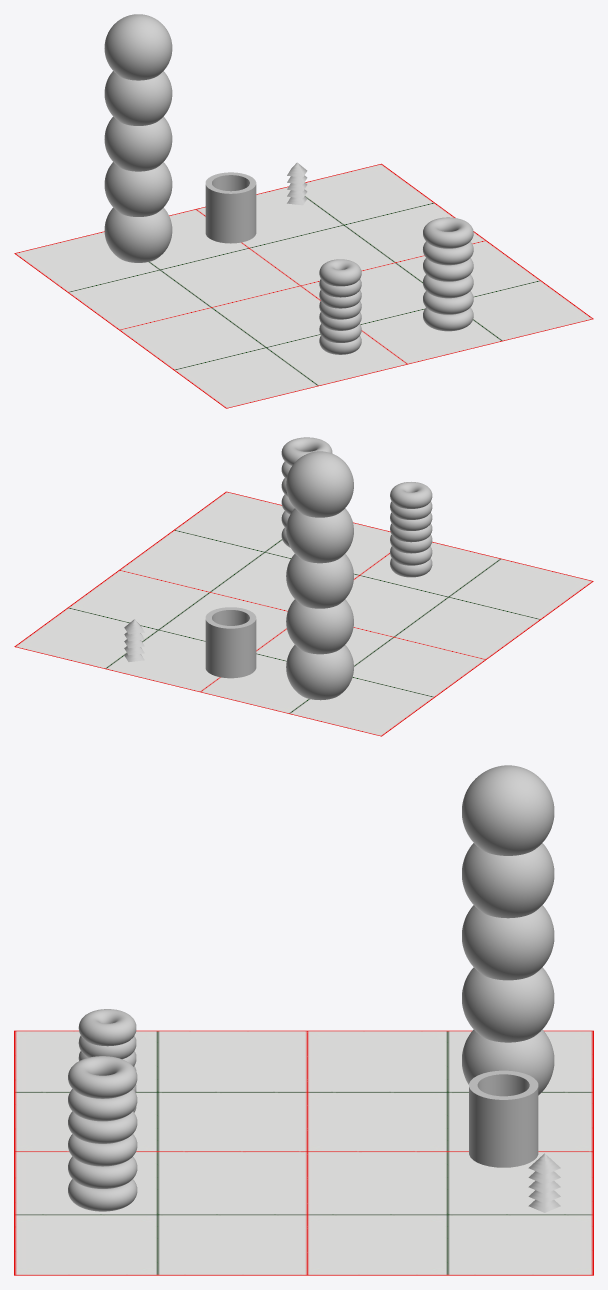
Rendered from level1.fbx.
3 views of the same model, one above another, from view 1: azimuth 30°, elevation 25°; view 2: azimuth 150°, elevation 25°; view 3: azimuth 270°, elevation 25° (orthographic). The views are drawn at different scales.
Parts seen in each view (by area): view 1: gnd1, pSphere5, pSphere1, pSphere3, pSphere4, pSphere2, pPipe5, Torus13, Torus7, pPipe4, pPipe1, Torus8 (+8 smaller); view 2: gnd1, pSphere5, pSphere2, pSphere4, pSphere1, pSphere3, pPipe5, pPipe4, Torus7, pPipe1, Torus13, pPipe3 (+7 smaller); view 3: gnd1, pSphere5, pSphere2, pSphere3, pSphere4, pSphere1, pPipe5, Torus13, Torus7, pPipe4, Torus11, Torus12 (+7 smaller).
Part boxes in pixels (x1,y1,x2,y2): gnd1: [14, 163, 593, 408]; pSphere5: [104, 14, 172, 80]; pSphere1: [104, 207, 172, 262]; pSphere3: [104, 116, 172, 171]; pSphere4: [104, 71, 172, 125]; pSphere2: [104, 162, 172, 216]; pPipe5: [205, 172, 256, 216]; Torus13: [423, 217, 473, 248]; Torus7: [319, 259, 361, 286]; pPipe4: [205, 183, 256, 224]; pPipe1: [205, 217, 256, 243]; Torus8: [423, 307, 473, 331]; gnd1: [14, 491, 593, 736]; pSphere5: [286, 451, 353, 517]; pSphere2: [286, 599, 353, 654]; pSphere4: [286, 508, 353, 563]; pSphere1: [286, 645, 353, 700]; pSphere3: [286, 554, 353, 608]; pPipe5: [205, 607, 256, 651]; pPipe4: [205, 618, 256, 659]; Torus7: [390, 482, 432, 508]; pPipe1: [205, 653, 256, 678]; Torus13: [281, 437, 332, 465]; pPipe3: [205, 636, 256, 667]; gnd1: [14, 1030, 593, 1275]; pSphere5: [462, 765, 554, 855]; pSphere2: [462, 967, 554, 1042]; pSphere3: [462, 905, 554, 980]; pSphere4: [462, 843, 554, 918]; pSphere1: [462, 1029, 554, 1095]; pPipe5: [469, 1070, 538, 1130]; Torus13: [68, 1056, 137, 1098]; Torus7: [78, 1009, 136, 1046]; pPipe4: [469, 1085, 538, 1142]; Torus11: [68, 1111, 137, 1143]; Torus12: [68, 1089, 137, 1121].
Bounding box in the file's own units: 100 × 63.33 × 100.
